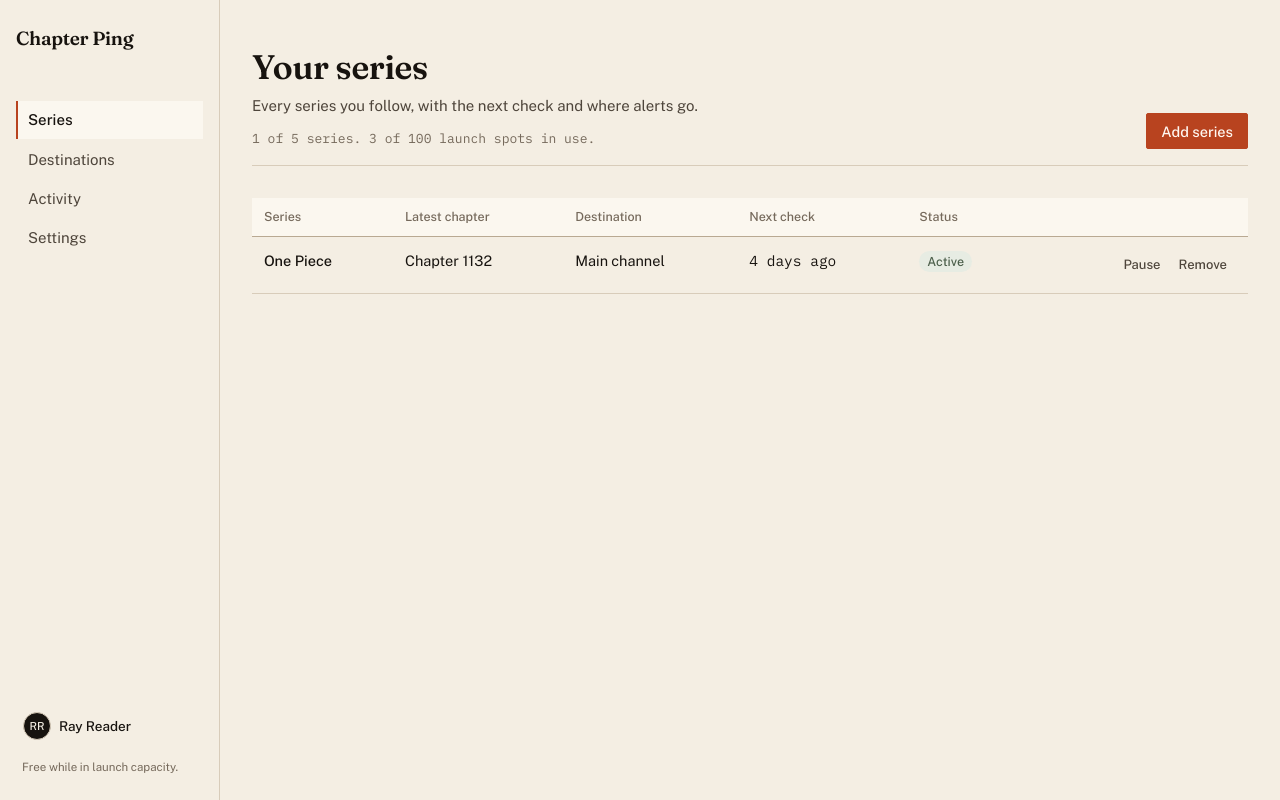
it: add series › checks a link, previews it, and saves it to the chosen destination
expect the link "One Piece" is shown: met, box [264,252,332,270]
Click the button "Add series" at (1197, 132), box [1146,114,1248,150]
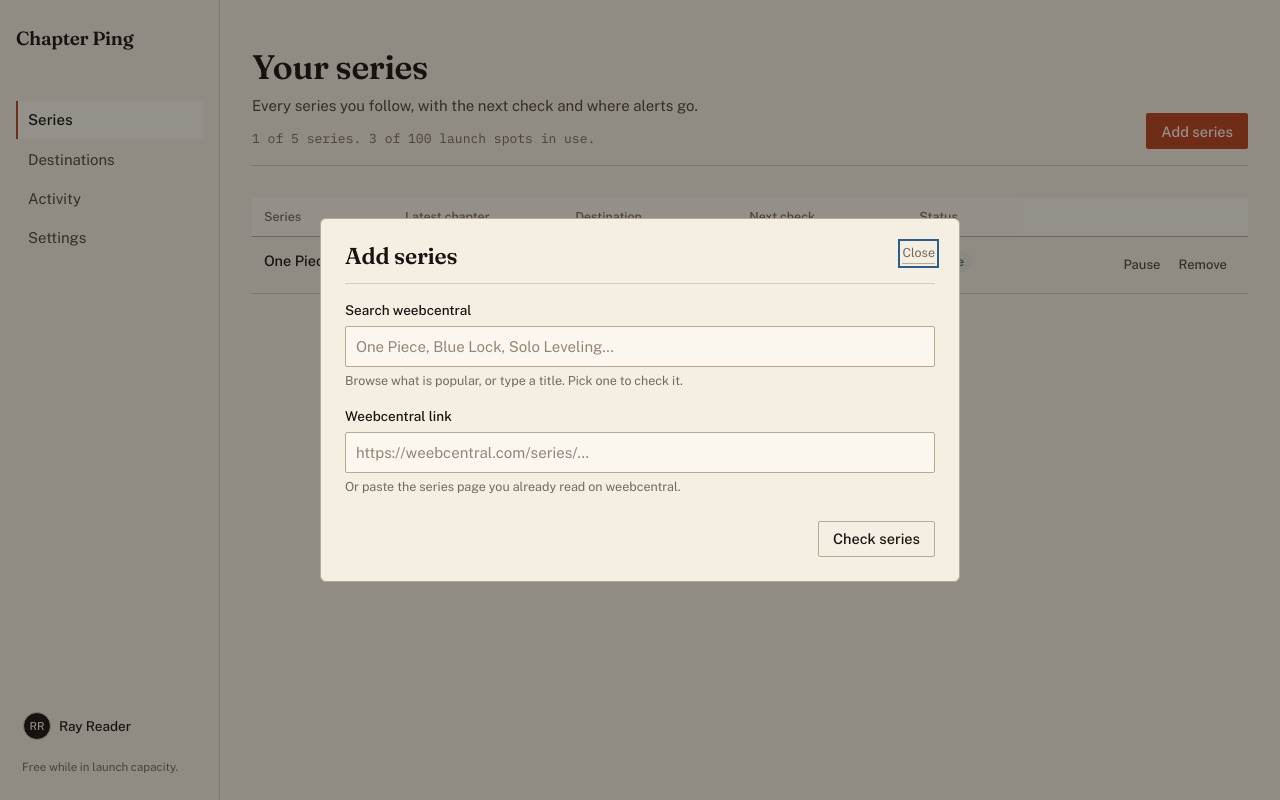
Type "https://weebcentral.com/series/S1/One-Piece" into the field labelled "Weebcentral link" at (640, 453), box [345,432,935,474]
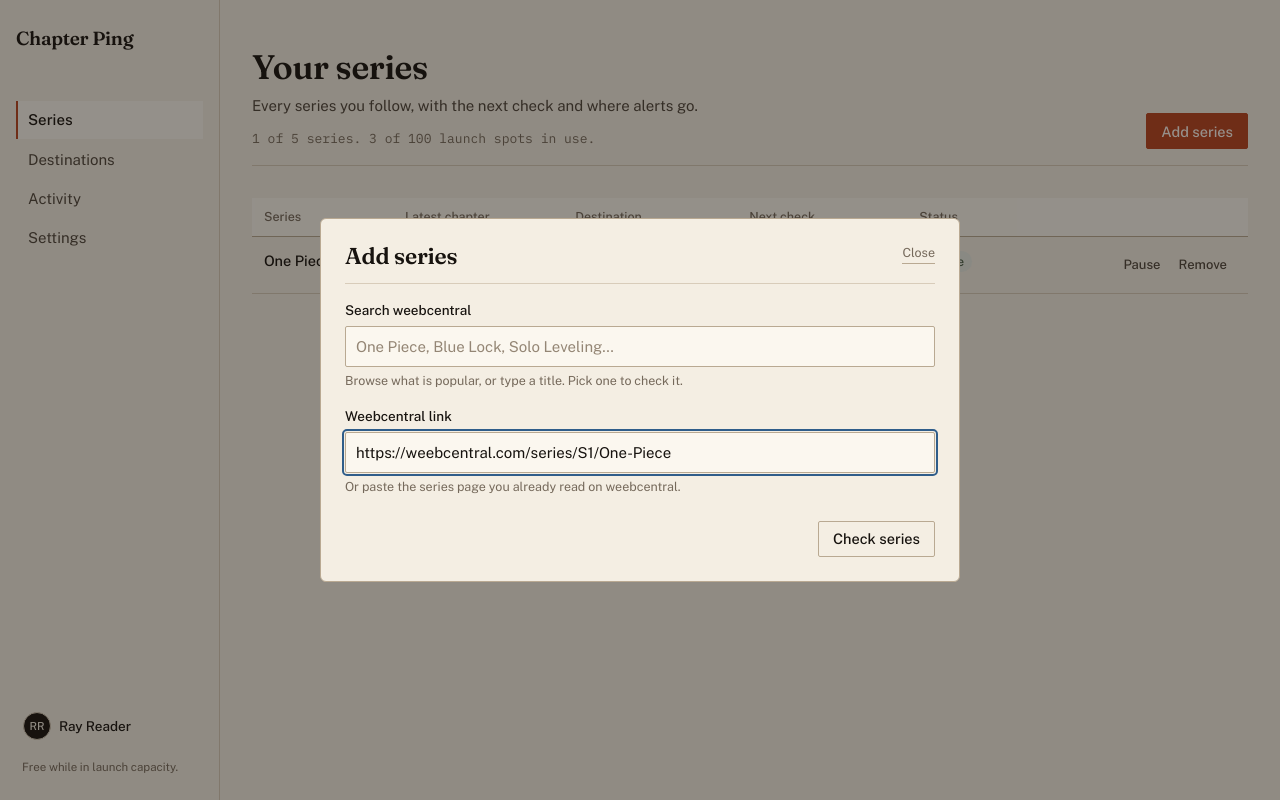
Click the button "Check series" at (876, 539), box [818,521,935,557]
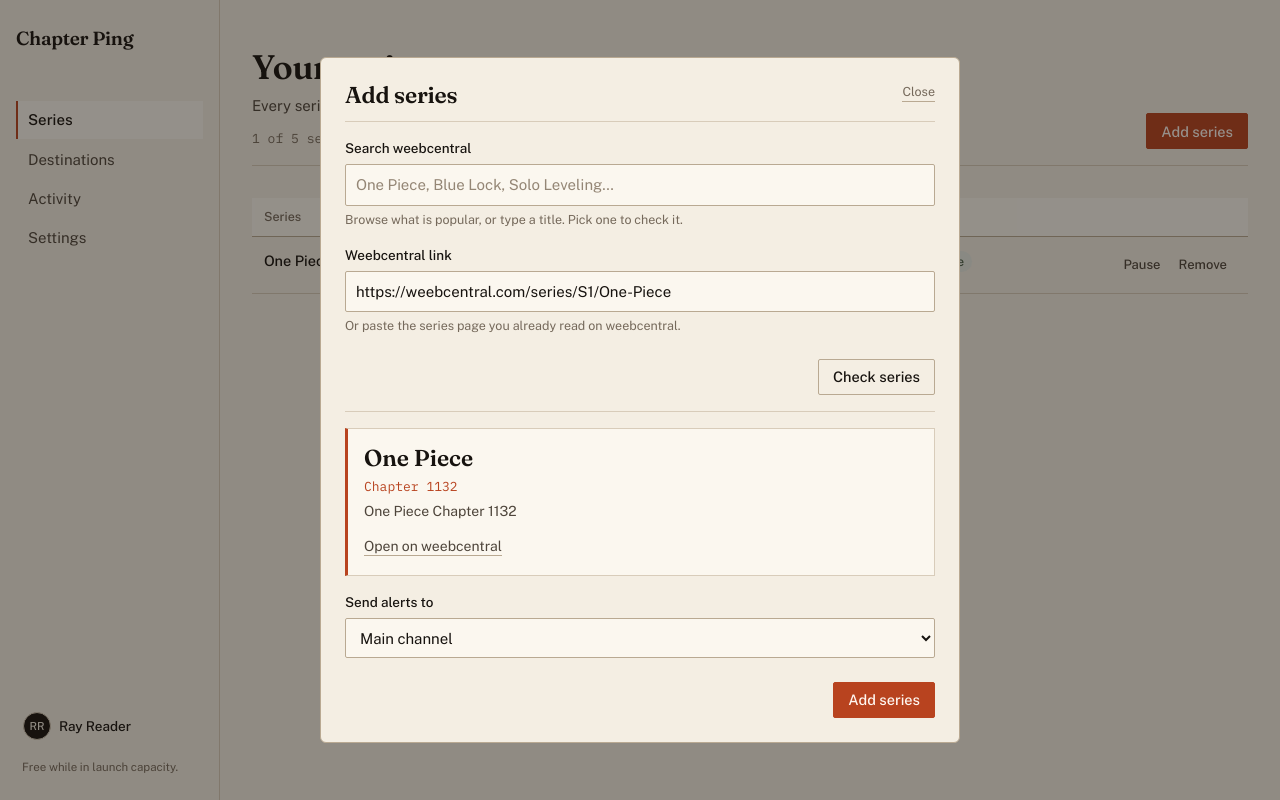
expect the text "One Piece" is shown: met, box [364,444,473,472]
expect the text "Chapter 1132" is shown: met, box [364,478,458,495]
Select "Main channel" in the dropdown labelled "Send alerts to" at (640, 638), box [345,618,935,658]
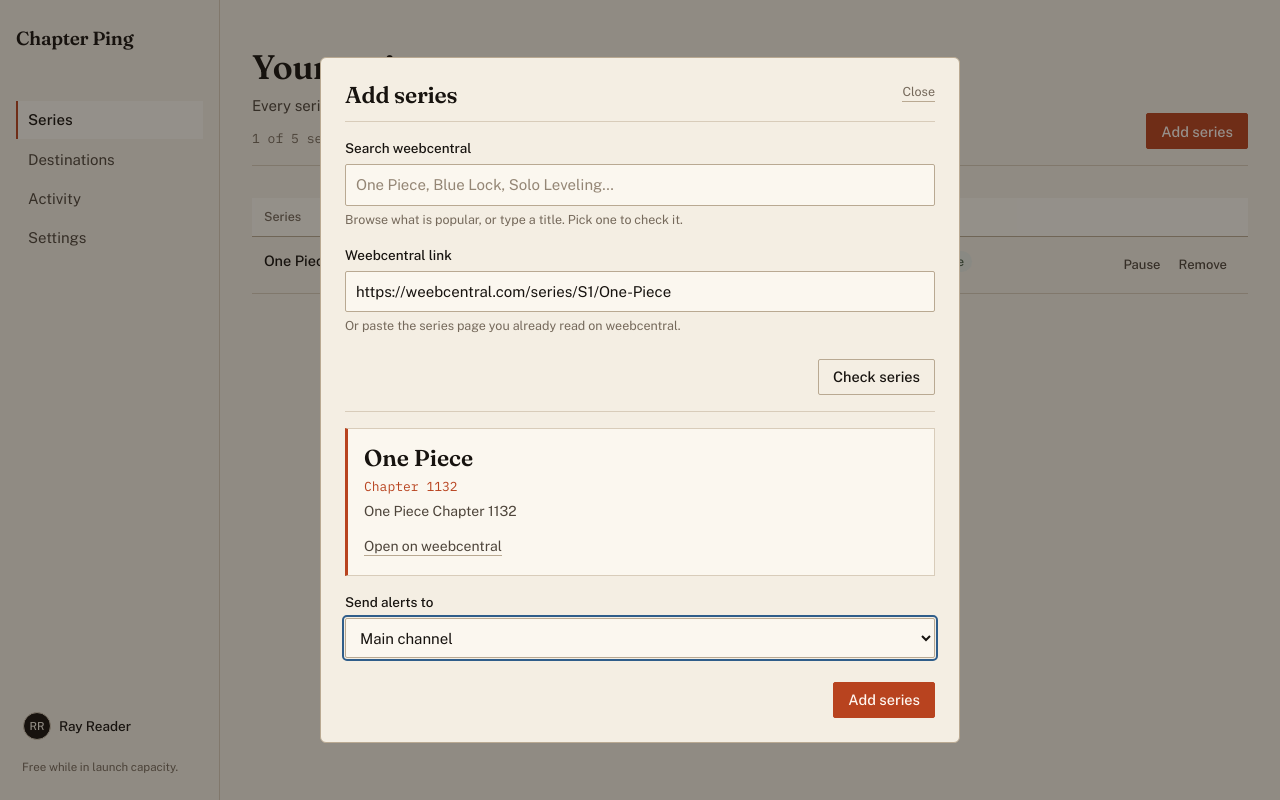
Click the button "Add series" at (884, 700), box [833,682,935,718]
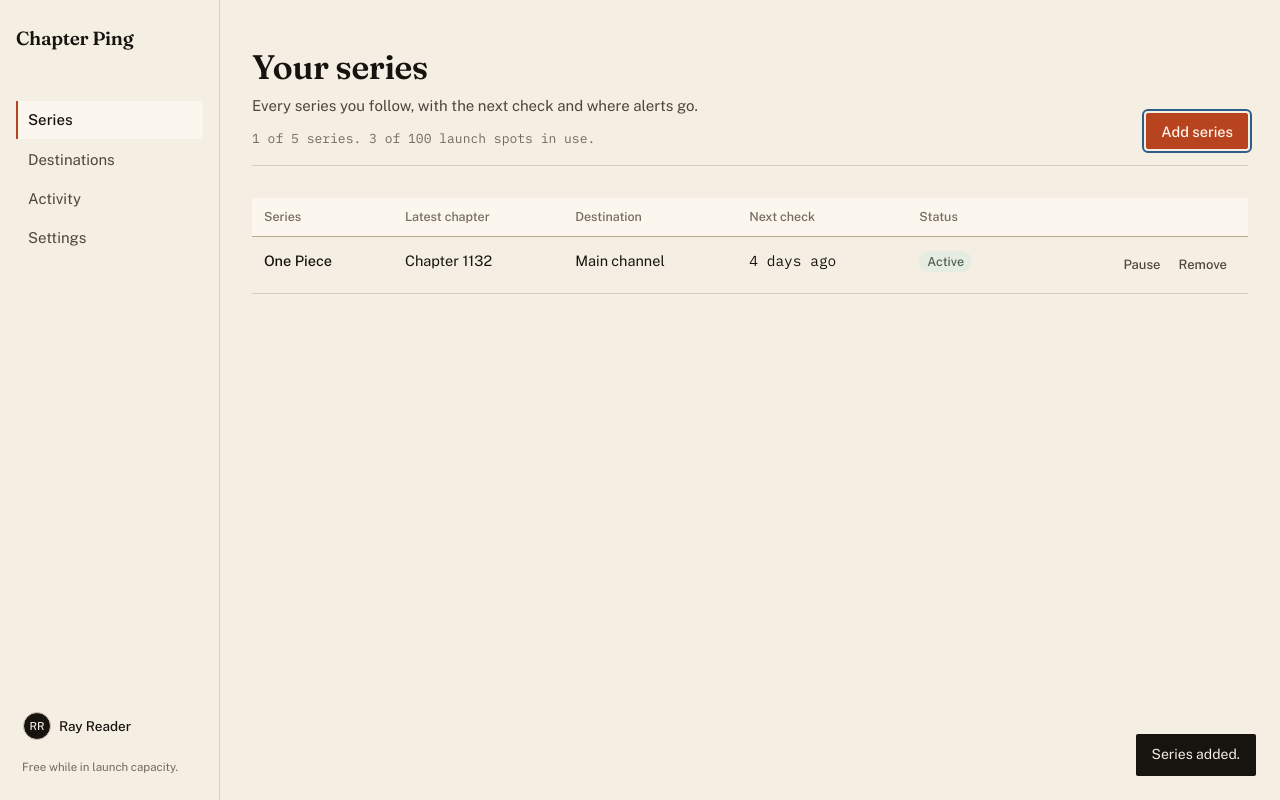
expect the text "Series added." is shown: met, box [1136,734,1256,776]
